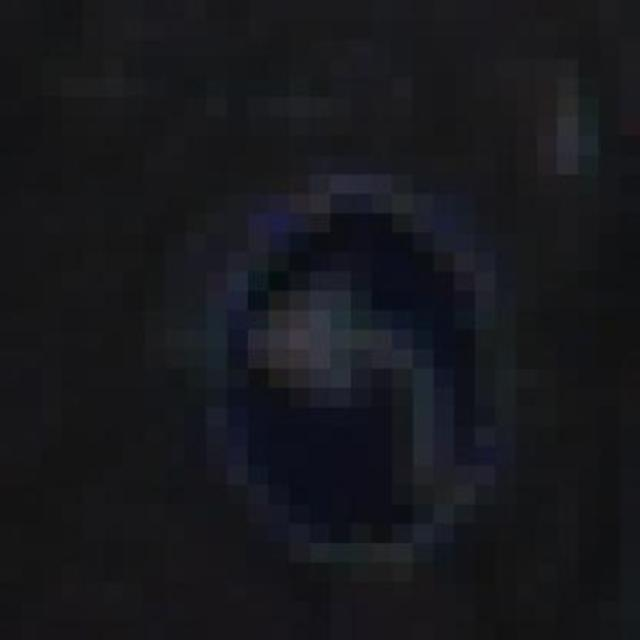Turn left ahead: (166, 155, 516, 582)
